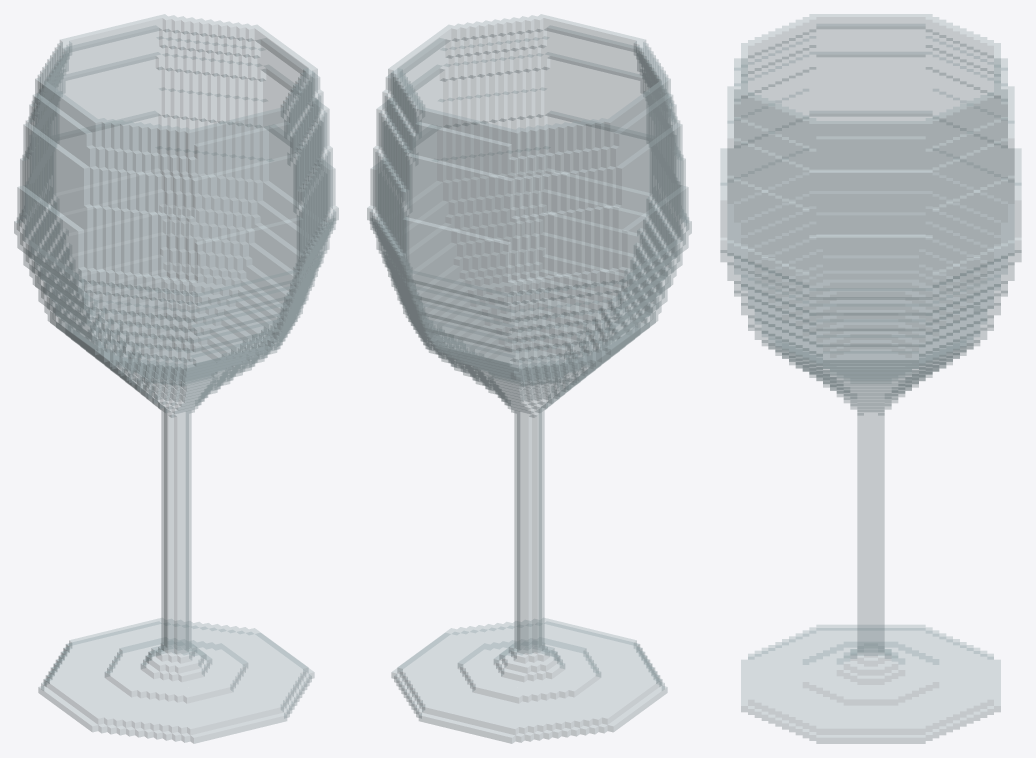
The model's file is wine_glass.glb.
3 renders of one model, left to right at view 1: azimuth 30°, elevation 25°; view 2: azimuth 150°, elevation 25°; view 3: azimuth 270°, elevation 25°, orthographic.
Visible parts, largest first — view 1: wine_glass:compound; view 2: wine_glass:compound; view 3: wine_glass:compound.
Part boxes in pixels (x1,y1,x2,y2): wine_glass:compound: [14, 14, 338, 743]; wine_glass:compound: [367, 14, 691, 743]; wine_glass:compound: [720, 14, 1021, 743].
Bounding box in the file's own units: 0.088 × 0.2 × 0.088.
